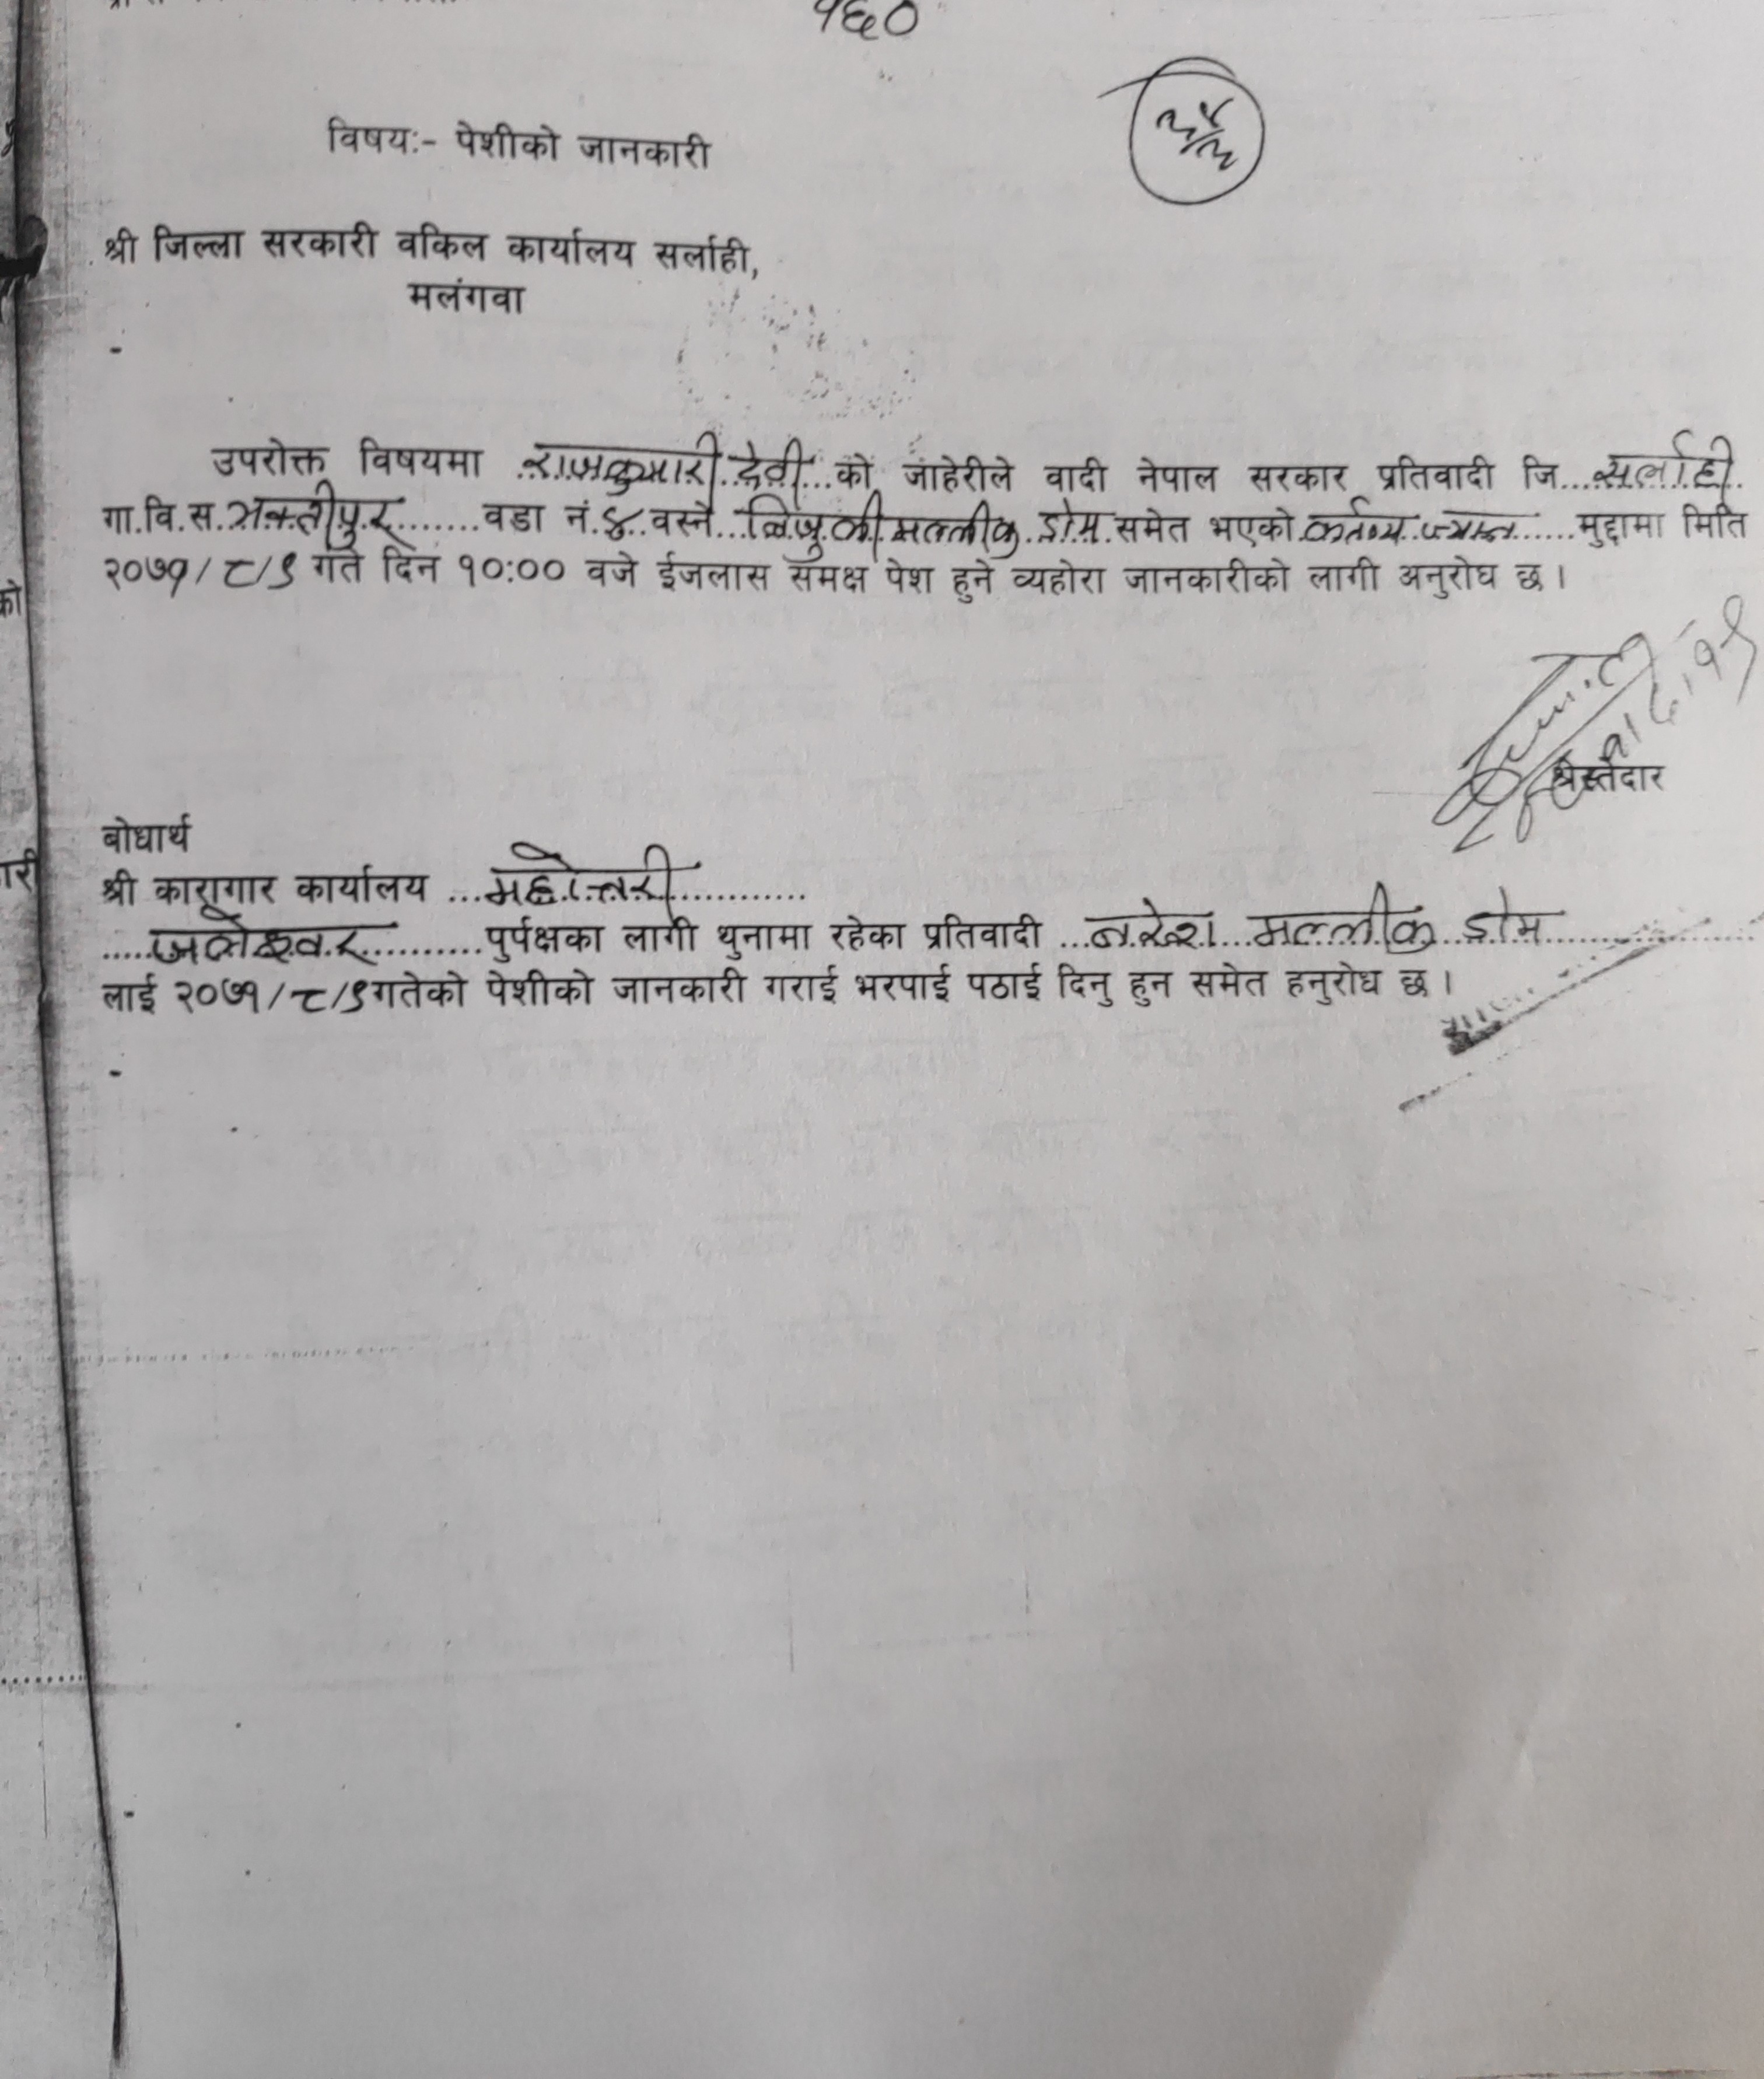text: (745, 493, 1024, 567), (478, 833, 693, 915), (138, 905, 392, 971), (514, 427, 728, 500), (1248, 878, 1442, 959), (217, 479, 416, 548), (1589, 430, 1739, 499), (1085, 891, 1225, 957), (1153, 94, 1246, 177), (1300, 490, 1416, 551), (1459, 887, 1557, 945), (1419, 499, 1528, 549), (801, 0, 935, 40), (731, 430, 812, 490), (1036, 497, 1108, 551), (210, 548, 261, 600), (595, 497, 640, 548), (264, 549, 301, 597)
